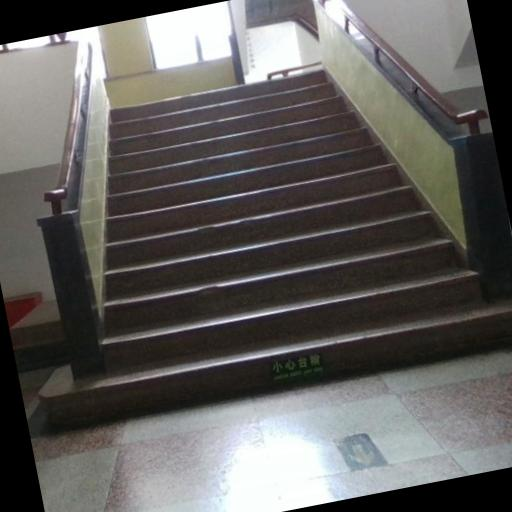stairs: (42, 71, 511, 424)
